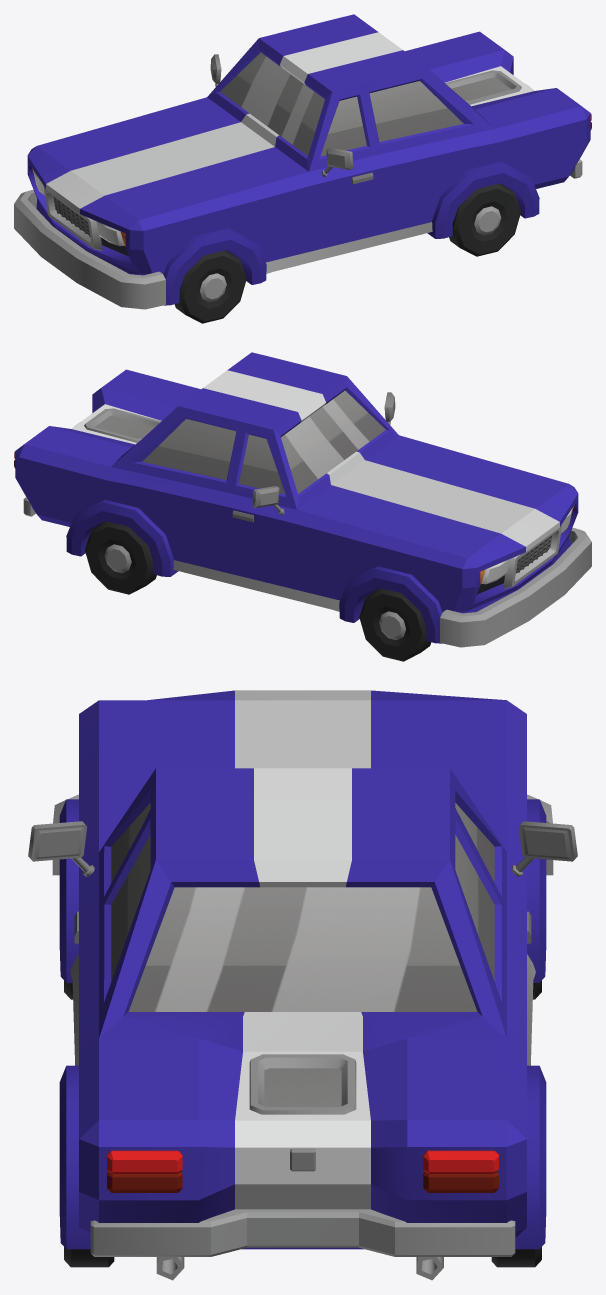
File: Car_18_ZZ.gltf
3 renders of one model, top to bottom at view 1: azimuth 30°, elevation 25°; view 2: azimuth 150°, elevation 25°; view 3: azimuth 270°, elevation 25°, orthographic. The views are drawn at different scales.
Parts seen in each view (by area): view 1: Car_18_ZZ, RL, FL; view 2: Car_18_ZZ, RR, FR; view 3: Car_18_ZZ.
Boxes of the visible parts, bbox=[...] form: Car_18_ZZ: bbox=[14, 14, 591, 309]; RL: bbox=[449, 183, 520, 256]; FL: bbox=[174, 250, 246, 323]; Car_18_ZZ: bbox=[14, 352, 591, 647]; RR: bbox=[85, 521, 156, 594]; FR: bbox=[359, 588, 431, 661]; Car_18_ZZ: bbox=[28, 690, 577, 1280].
Size of the model in its own units: 3.78 by 1.34 by 1.85.
Materials: 3 (3 with a texture image).
